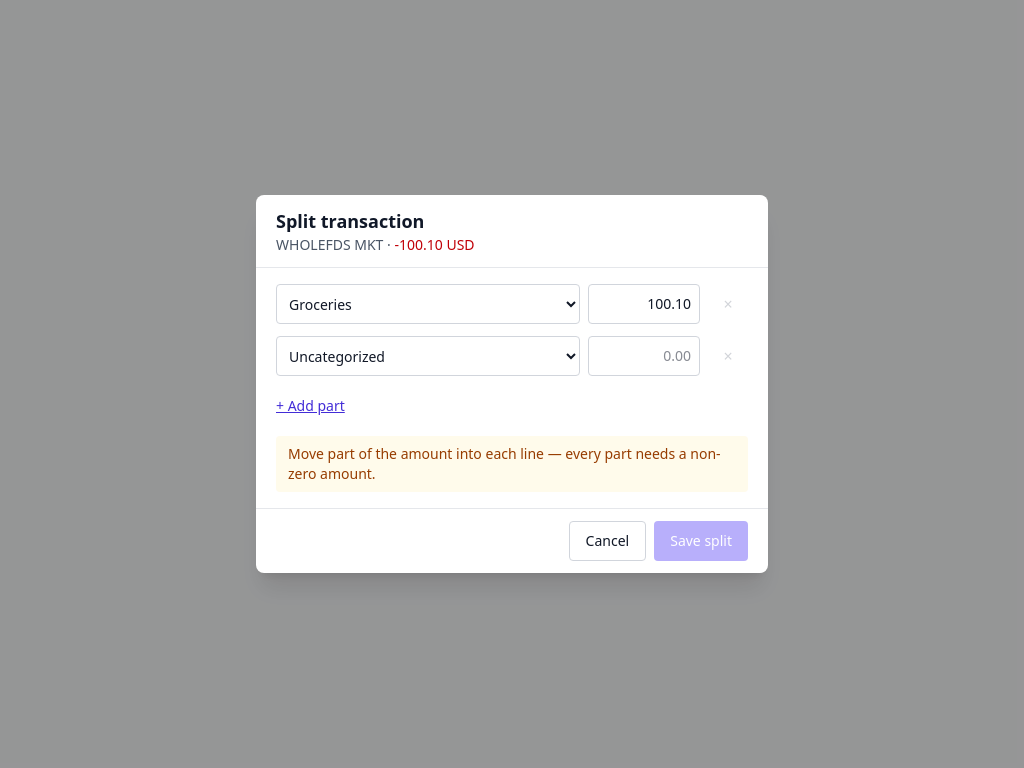
it: SplitTransactionModal (#438) › fills the last part with the remainder until the user edits it (#506)
Replace the text in the field named "Amount for part 1" with "70.05" at (644, 304), box [588,284,700,324]
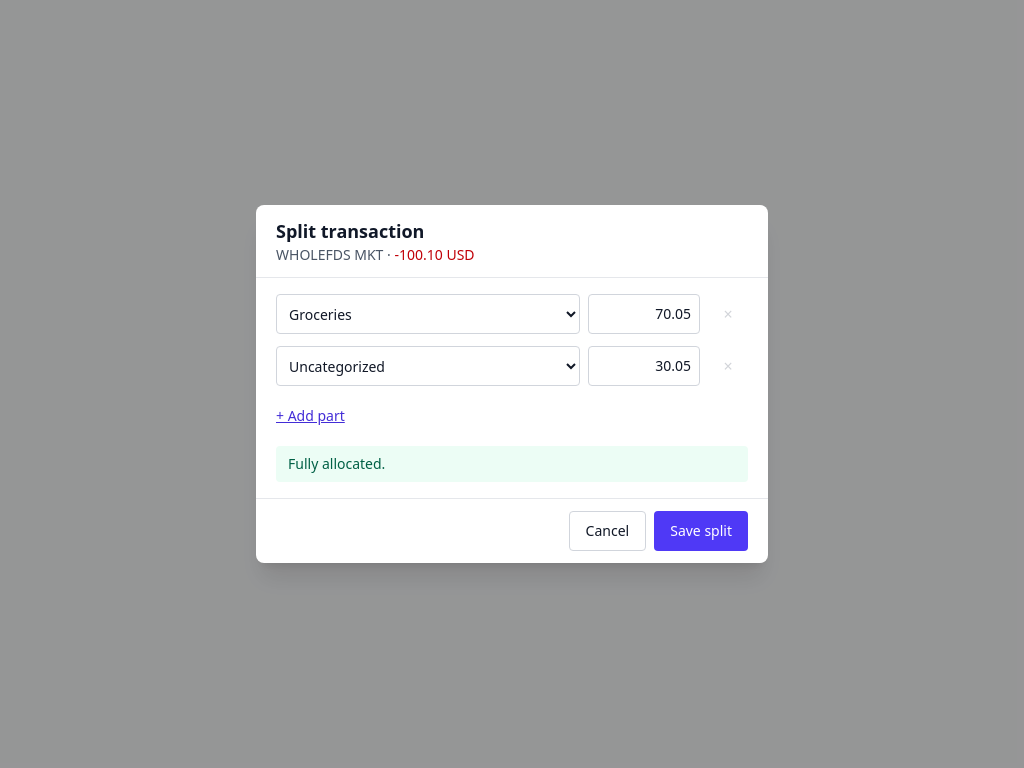
Result: the field named "Amount for part 2" holds "30.05" at [588,346,700,386]
Replace the text in the field named "Amount for part 1" with "70" at (644, 314), box [588,294,700,334]
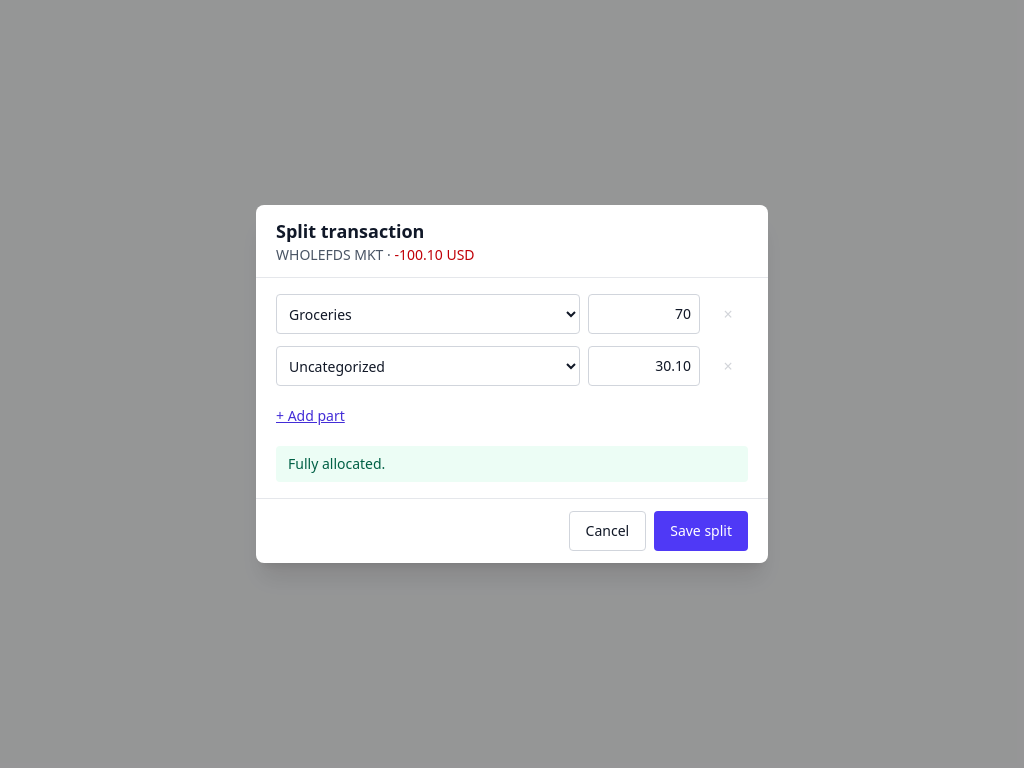
Result: the message reads "Fully allocated." at [288,454,385,473]
Result: the button "Save split" is enabled at [654,511,748,551]
Result: the field named "Amount for part 2" holds "30.10" at [588,346,700,386]
Replace the text in the field named "Amount for part 1" with "120" at (644, 314), box [588,294,700,334]
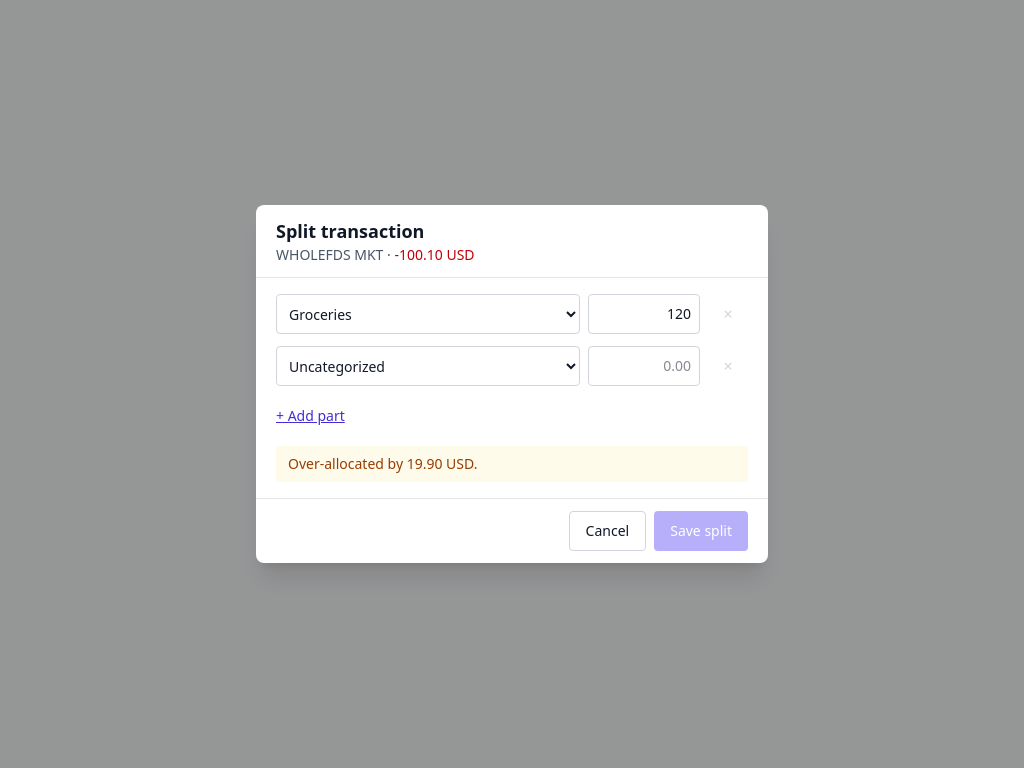
Result: the field named "Amount for part 2" is empty
Result: the message reads "Over-allocated by 19.90 USD." at [276,446,748,482]
Type "5" into the field named "Amount for part 2" at (644, 366), box [588,346,700,386]
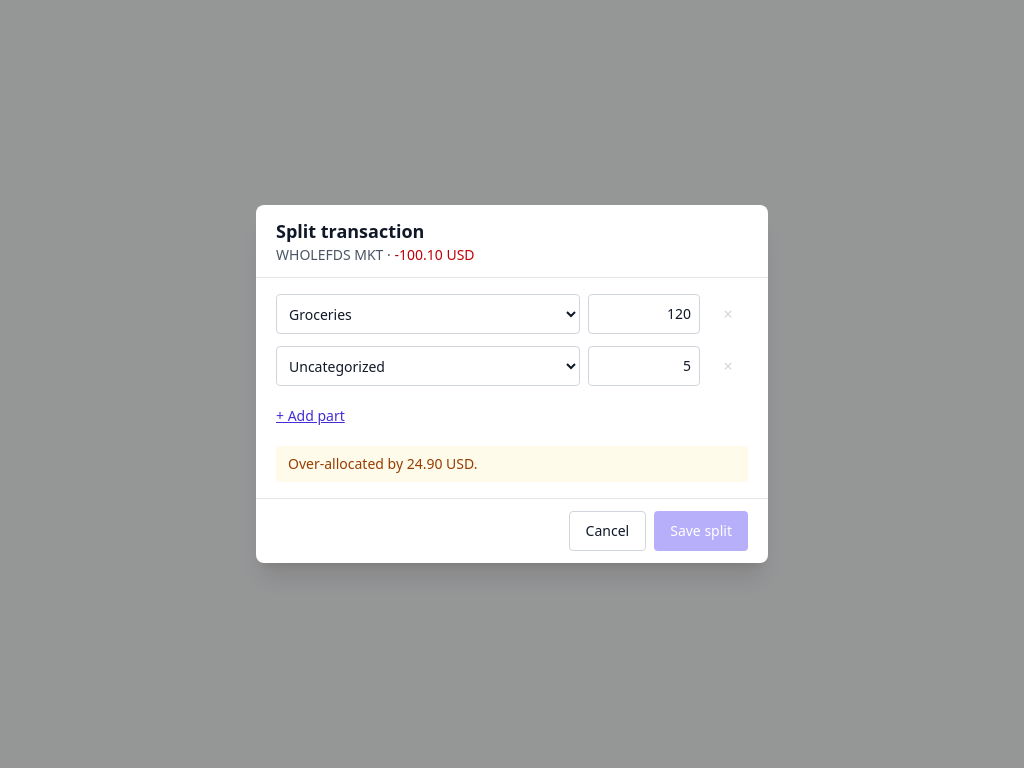
Replace the text in the field named "Amount for part 1" with "60" at (644, 314), box [588,294,700,334]
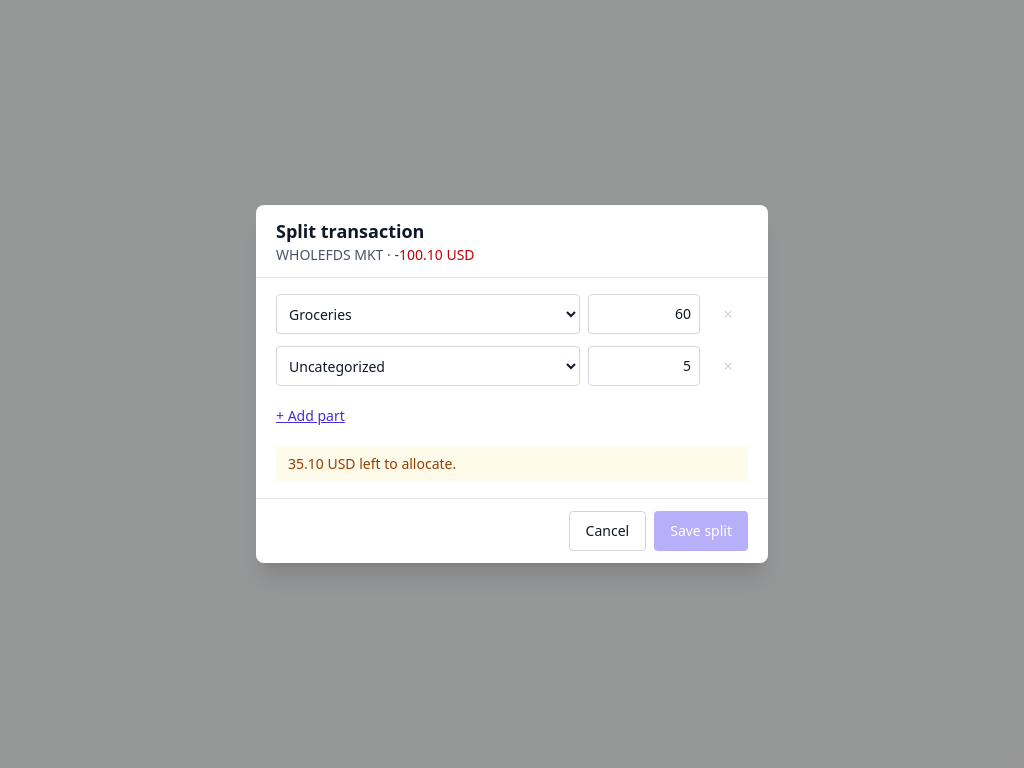
Result: the message reads "35.10 USD left to allocate." at [276,446,748,482]
